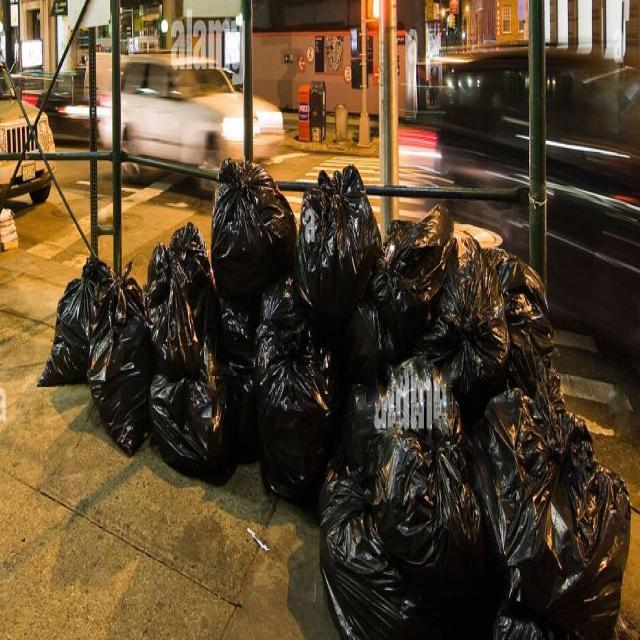garbage: (41, 152, 634, 640)
